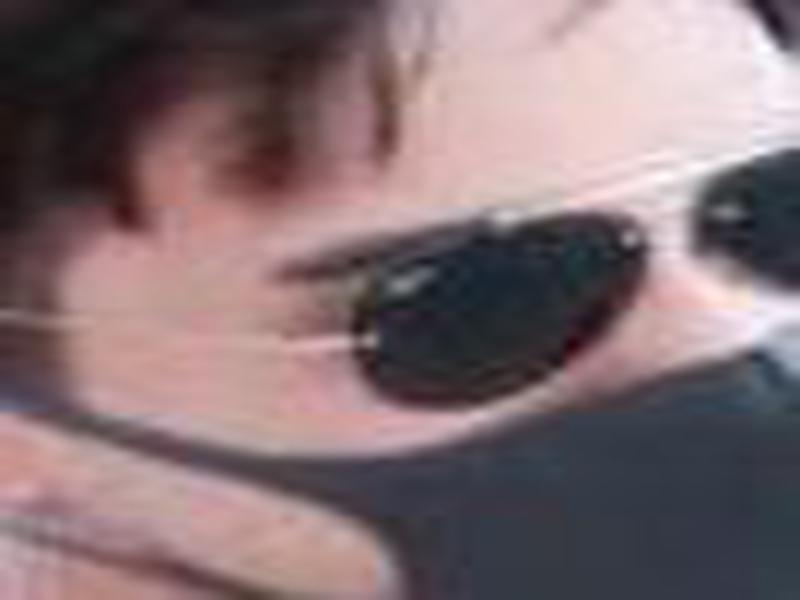with_mask: (5, 1, 800, 597)
